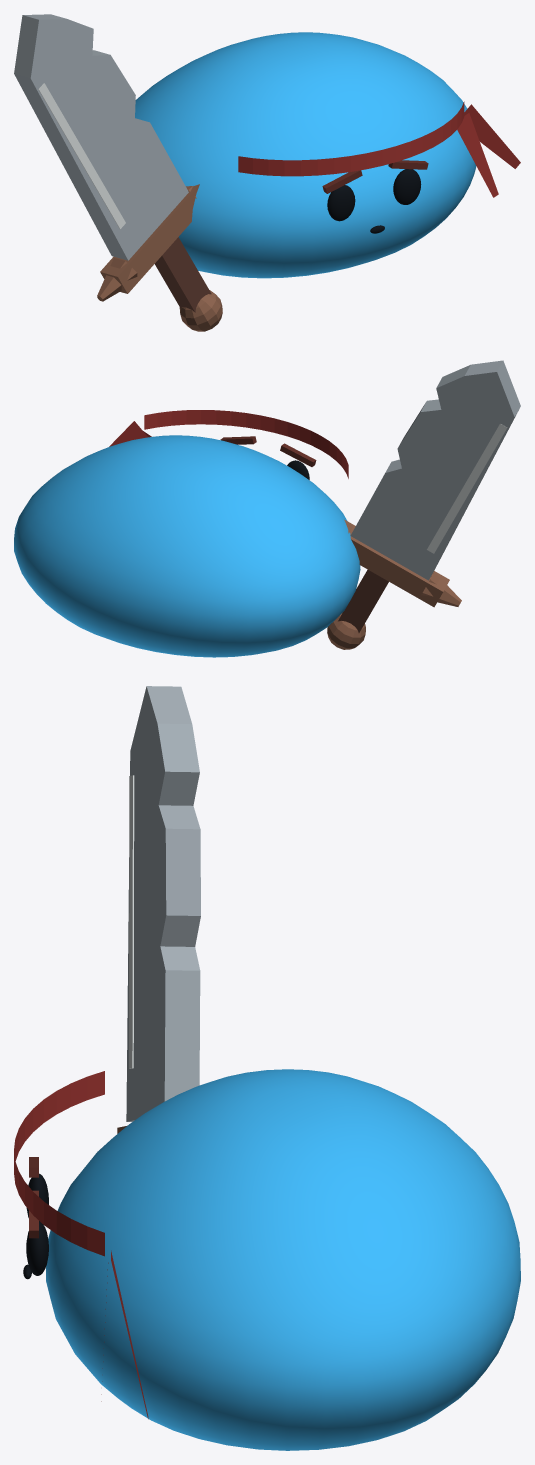
Rendered from berserker-slime.glb.
The picture shows the model from 3 angles, top to bottom: view 1: azimuth 30°, elevation 25°; view 2: azimuth 150°, elevation 25°; view 3: azimuth 270°, elevation 25°; orthographic projection. The views are drawn at different scales.
Visible parts, largest first — view 1: Body, Berserker_Blade, Berserker_ClothBand, Berserker_Guard, Berserker_Grip, Berserker_EdgeAccent, Berserker_Pommel, Berserker_TornTail_B, Berserker_TornTail_A, Eye_R, Eye_L, Berserker_GuardSpike_L (+1 smaller); view 2: Body, Berserker_Blade, Berserker_ClothBand, Berserker_Guard, Berserker_Grip, Berserker_EdgeAccent, Berserker_Pommel, Berserker_GuardSpike_L, Berserker_TornTail_A; view 3: Body, Berserker_Blade, Berserker_ClothBand, Berserker_EdgeAccent, Eye_R.
Part boxes in pixels (<box>): Body: <box>135,32,476,278</box>; Berserker_Blade: <box>14,14,188,260</box>; Berserker_ClothBand: <box>238,101,464,176</box>; Berserker_Guard: <box>100,184,199,293</box>; Berserker_Grip: <box>155,237,211,312</box>; Berserker_EdgeAccent: <box>38,83,125,229</box>; Berserker_Pommel: <box>179,290,222,331</box>; Berserker_TornTail_B: <box>457,113,498,197</box>; Berserker_TornTail_A: <box>464,104,520,168</box>; Eye_R: <box>393,169,421,204</box>; Eye_L: <box>327,185,355,221</box>; Berserker_GuardSpike_L: <box>97,258,137,301</box>; Body: <box>14,435,360,657</box>; Berserker_Blade: <box>350,360,520,580</box>; Berserker_ClothBand: <box>144,410,348,478</box>; Berserker_Guard: <box>344,519,449,607</box>; Berserker_Grip: <box>338,570,388,632</box>; Berserker_EdgeAccent: <box>427,423,507,553</box>; Berserker_Pommel: <box>327,613,365,649</box>; Berserker_GuardSpike_L: <box>421,572,461,606</box>; Berserker_TornTail_A: <box>109,421,147,446</box>; Body: <box>46,1069,520,1450</box>; Berserker_Blade: <box>126,686,200,1121</box>; Berserker_ClothBand: <box>14,1071,104,1256</box>; Berserker_EdgeAccent: <box>129,775,134,1068</box>; Eye_R: <box>26,1221,48,1275</box>.
Bounding box in the file's own units: 3.42 × 2.32 × 2.04.
